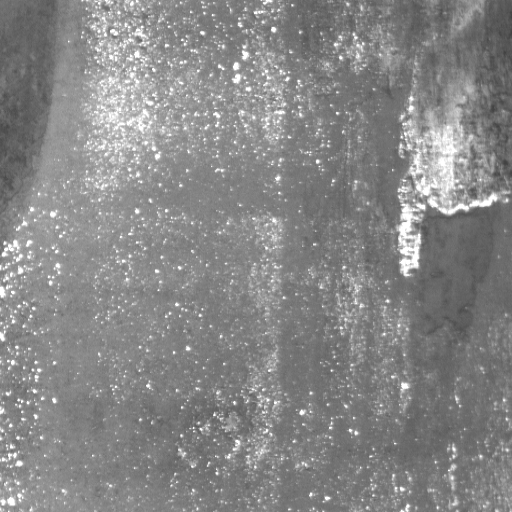aokeng: (1, 1, 64, 260)
qiaopi: (399, 1, 511, 337)
